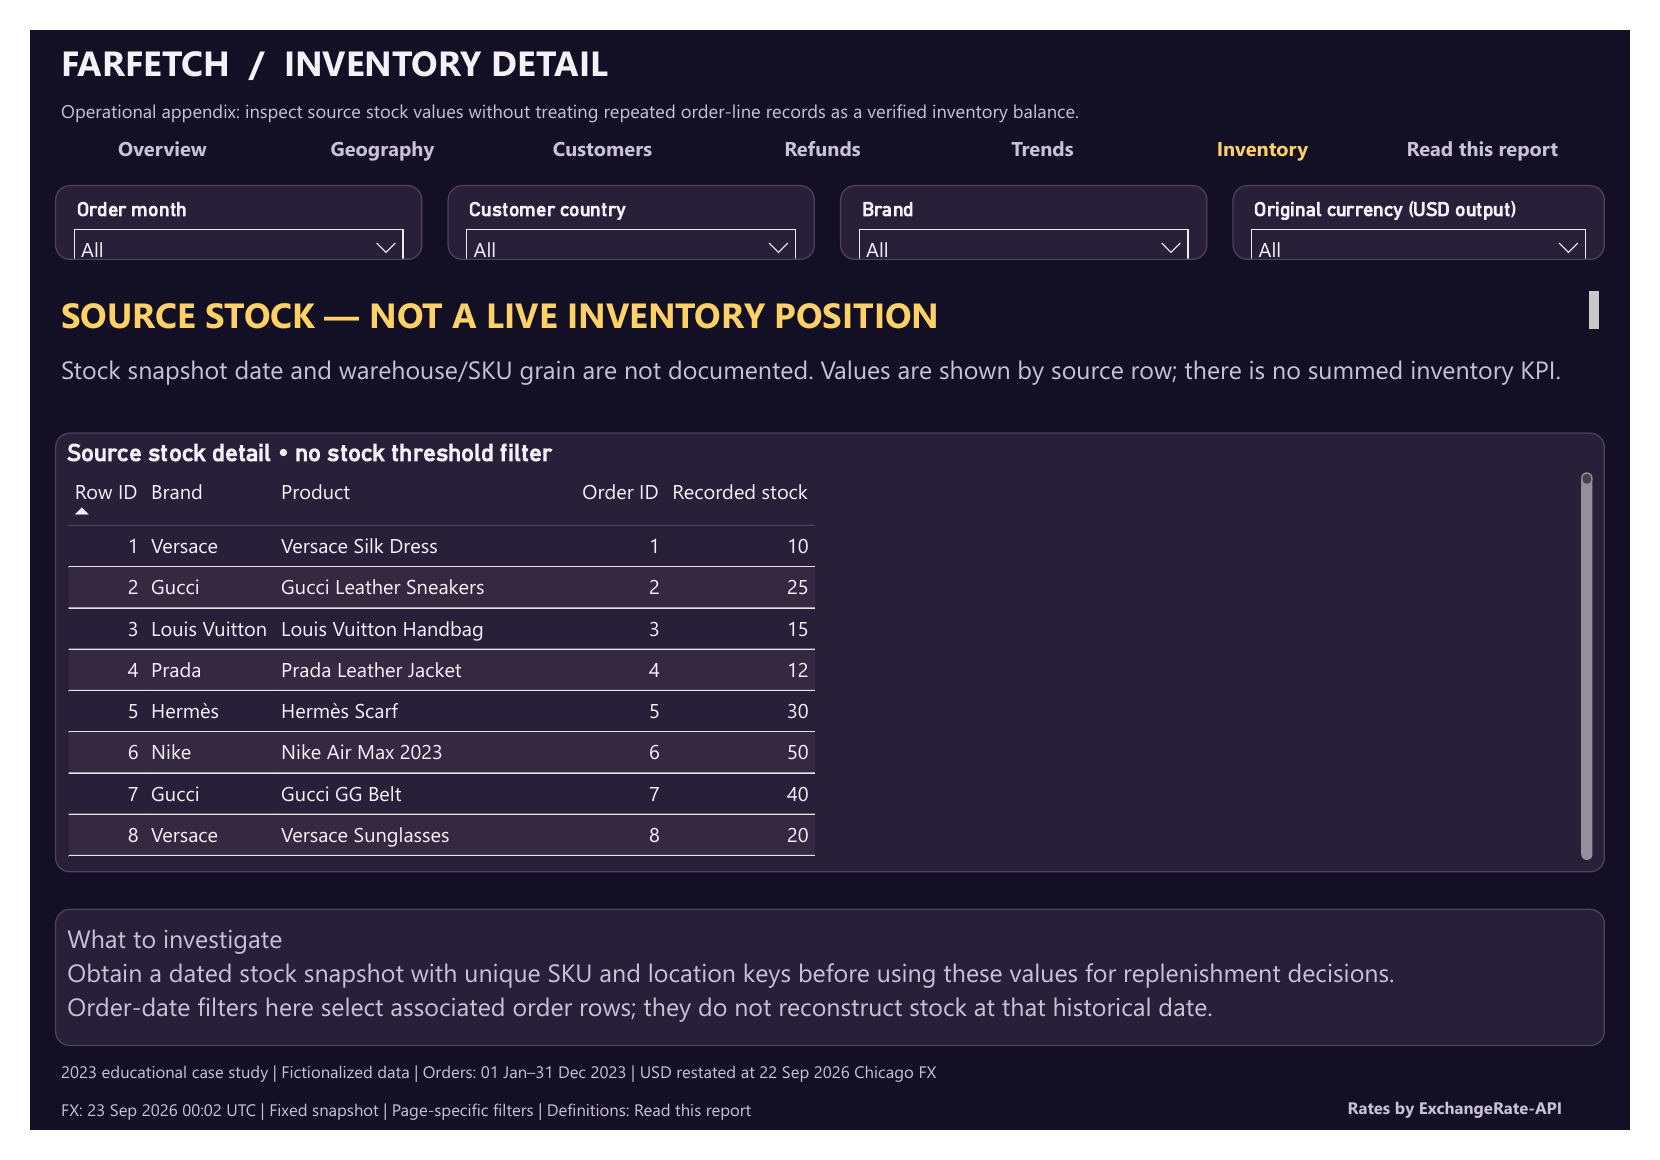

This screenshot's page, from the dashboard's own definition file:
{"tool":"powerbi","page":{"name":"Inventory Detail","canvas":[1280,880],"ordinal":5},"visuals":[{"type":"textbox","box":[20,2,1238,48],"z":12100},{"type":"textbox","box":[20,50,1238,30],"z":12200},{"type":"actionButton","box":[20,78,172,32],"z":12300},{"type":"actionButton","box":[196,78,172,32],"z":12400},{"type":"actionButton","box":[372,78,172,32],"z":12500},{"type":"actionButton","box":[548,78,172,32],"z":12600},{"type":"actionButton","box":[724,78,172,32],"z":12700},{"type":"actionButton","box":[900,78,172,32],"z":12800},{"type":"actionButton","box":[1076,78,172,32],"z":12900},{"type":"slicer","fields":{"Values":["Calendar.Year Month"]},"box":[20,124,294,60],"z":13000},{"type":"slicer","fields":{"Values":["customers.country"]},"box":[334,124,294,60],"z":13100},{"type":"slicer","fields":{"Values":["products.brand"]},"box":[648,124,294,60],"z":13200},{"type":"slicer","fields":{"Values":["orders.currency"]},"box":[962,124,298,60],"z":13300},{"type":"textbox","box":[20,820,1240,30],"z":13400},{"type":"textbox","box":[20,850,990,28],"z":13500},{"type":"textbox","box":[20,204,1240,40],"z":13600},{"type":"textbox","box":[20,253,1240,54],"z":13700},{"type":"tableEx","title":"Source stock detail • no stock threshold filter","fields":{"Values":["products.product_id","products.brand","products.name","products.order_id","products.stock_quatity"]},"box":[20,322,1240,352],"z":13800},{"type":"textbox","box":[20,703,1240,110],"z":13900},{"type":"actionButton","box":[1020,850,240,24],"z":16100}]}

Visuals, with their boxes in screenshot pixels (x1, y1, x2, y2), scaled from the page's 1280x880 canvas onto the 1660x1160 screenshot:
textbox: box=[26, 3, 1631, 66]
textbox: box=[26, 66, 1631, 105]
actionButton: box=[26, 103, 249, 145]
actionButton: box=[254, 103, 477, 145]
actionButton: box=[482, 103, 706, 145]
actionButton: box=[711, 103, 934, 145]
actionButton: box=[939, 103, 1162, 145]
actionButton: box=[1167, 103, 1390, 145]
actionButton: box=[1395, 103, 1618, 145]
slicer - Calendar.Year Month: box=[26, 163, 407, 243]
slicer - customers.country: box=[433, 163, 814, 243]
slicer - products.brand: box=[840, 163, 1222, 243]
slicer - orders.currency: box=[1248, 163, 1634, 243]
textbox: box=[26, 1081, 1634, 1120]
textbox: box=[26, 1120, 1310, 1157]
textbox: box=[26, 269, 1634, 322]
textbox: box=[26, 334, 1634, 405]
"Source stock detail • no stock threshold filter" tableEx: box=[26, 424, 1634, 888]
textbox: box=[26, 927, 1634, 1072]
actionButton: box=[1323, 1120, 1634, 1152]
